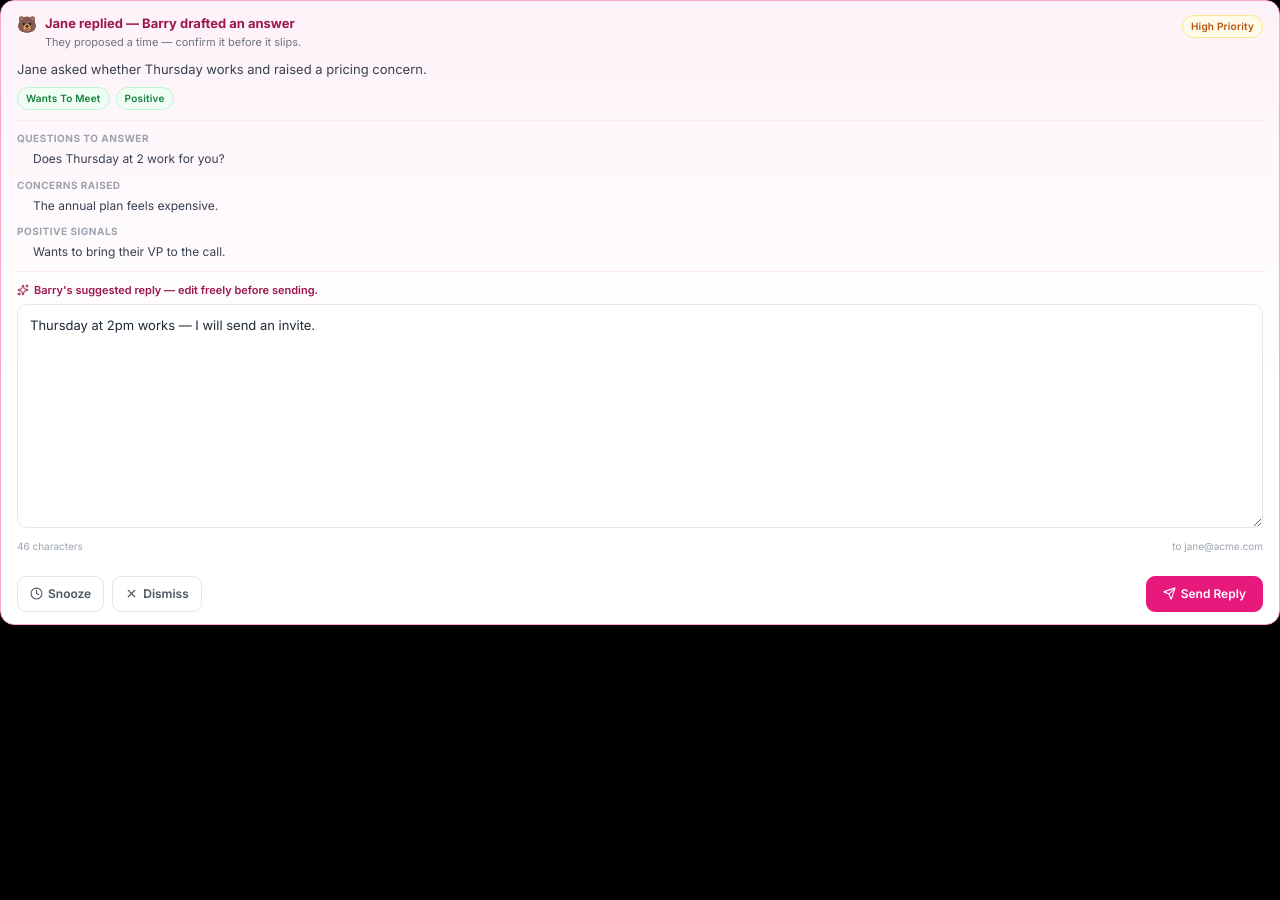
Test case: send › shows the server error inline and re-enables the buttons
Click the button "Send Reply". click: (1204, 594)
box: [1146, 576, 1263, 612]
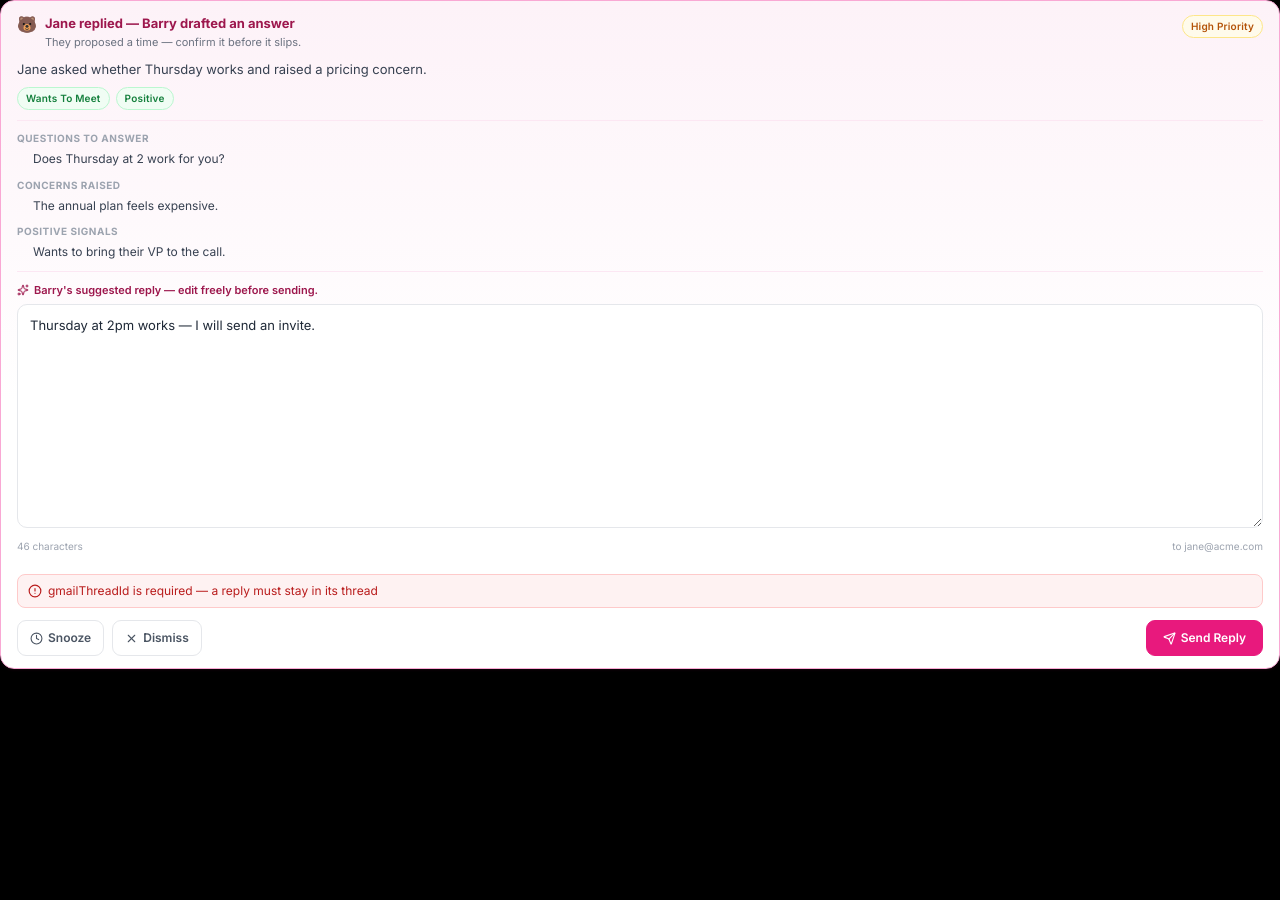
expect the button "Send Reply" is enabled: met, box [1146, 620, 1263, 656]
expect the message shows "must stay in its thread": met, box [48, 582, 378, 598]
